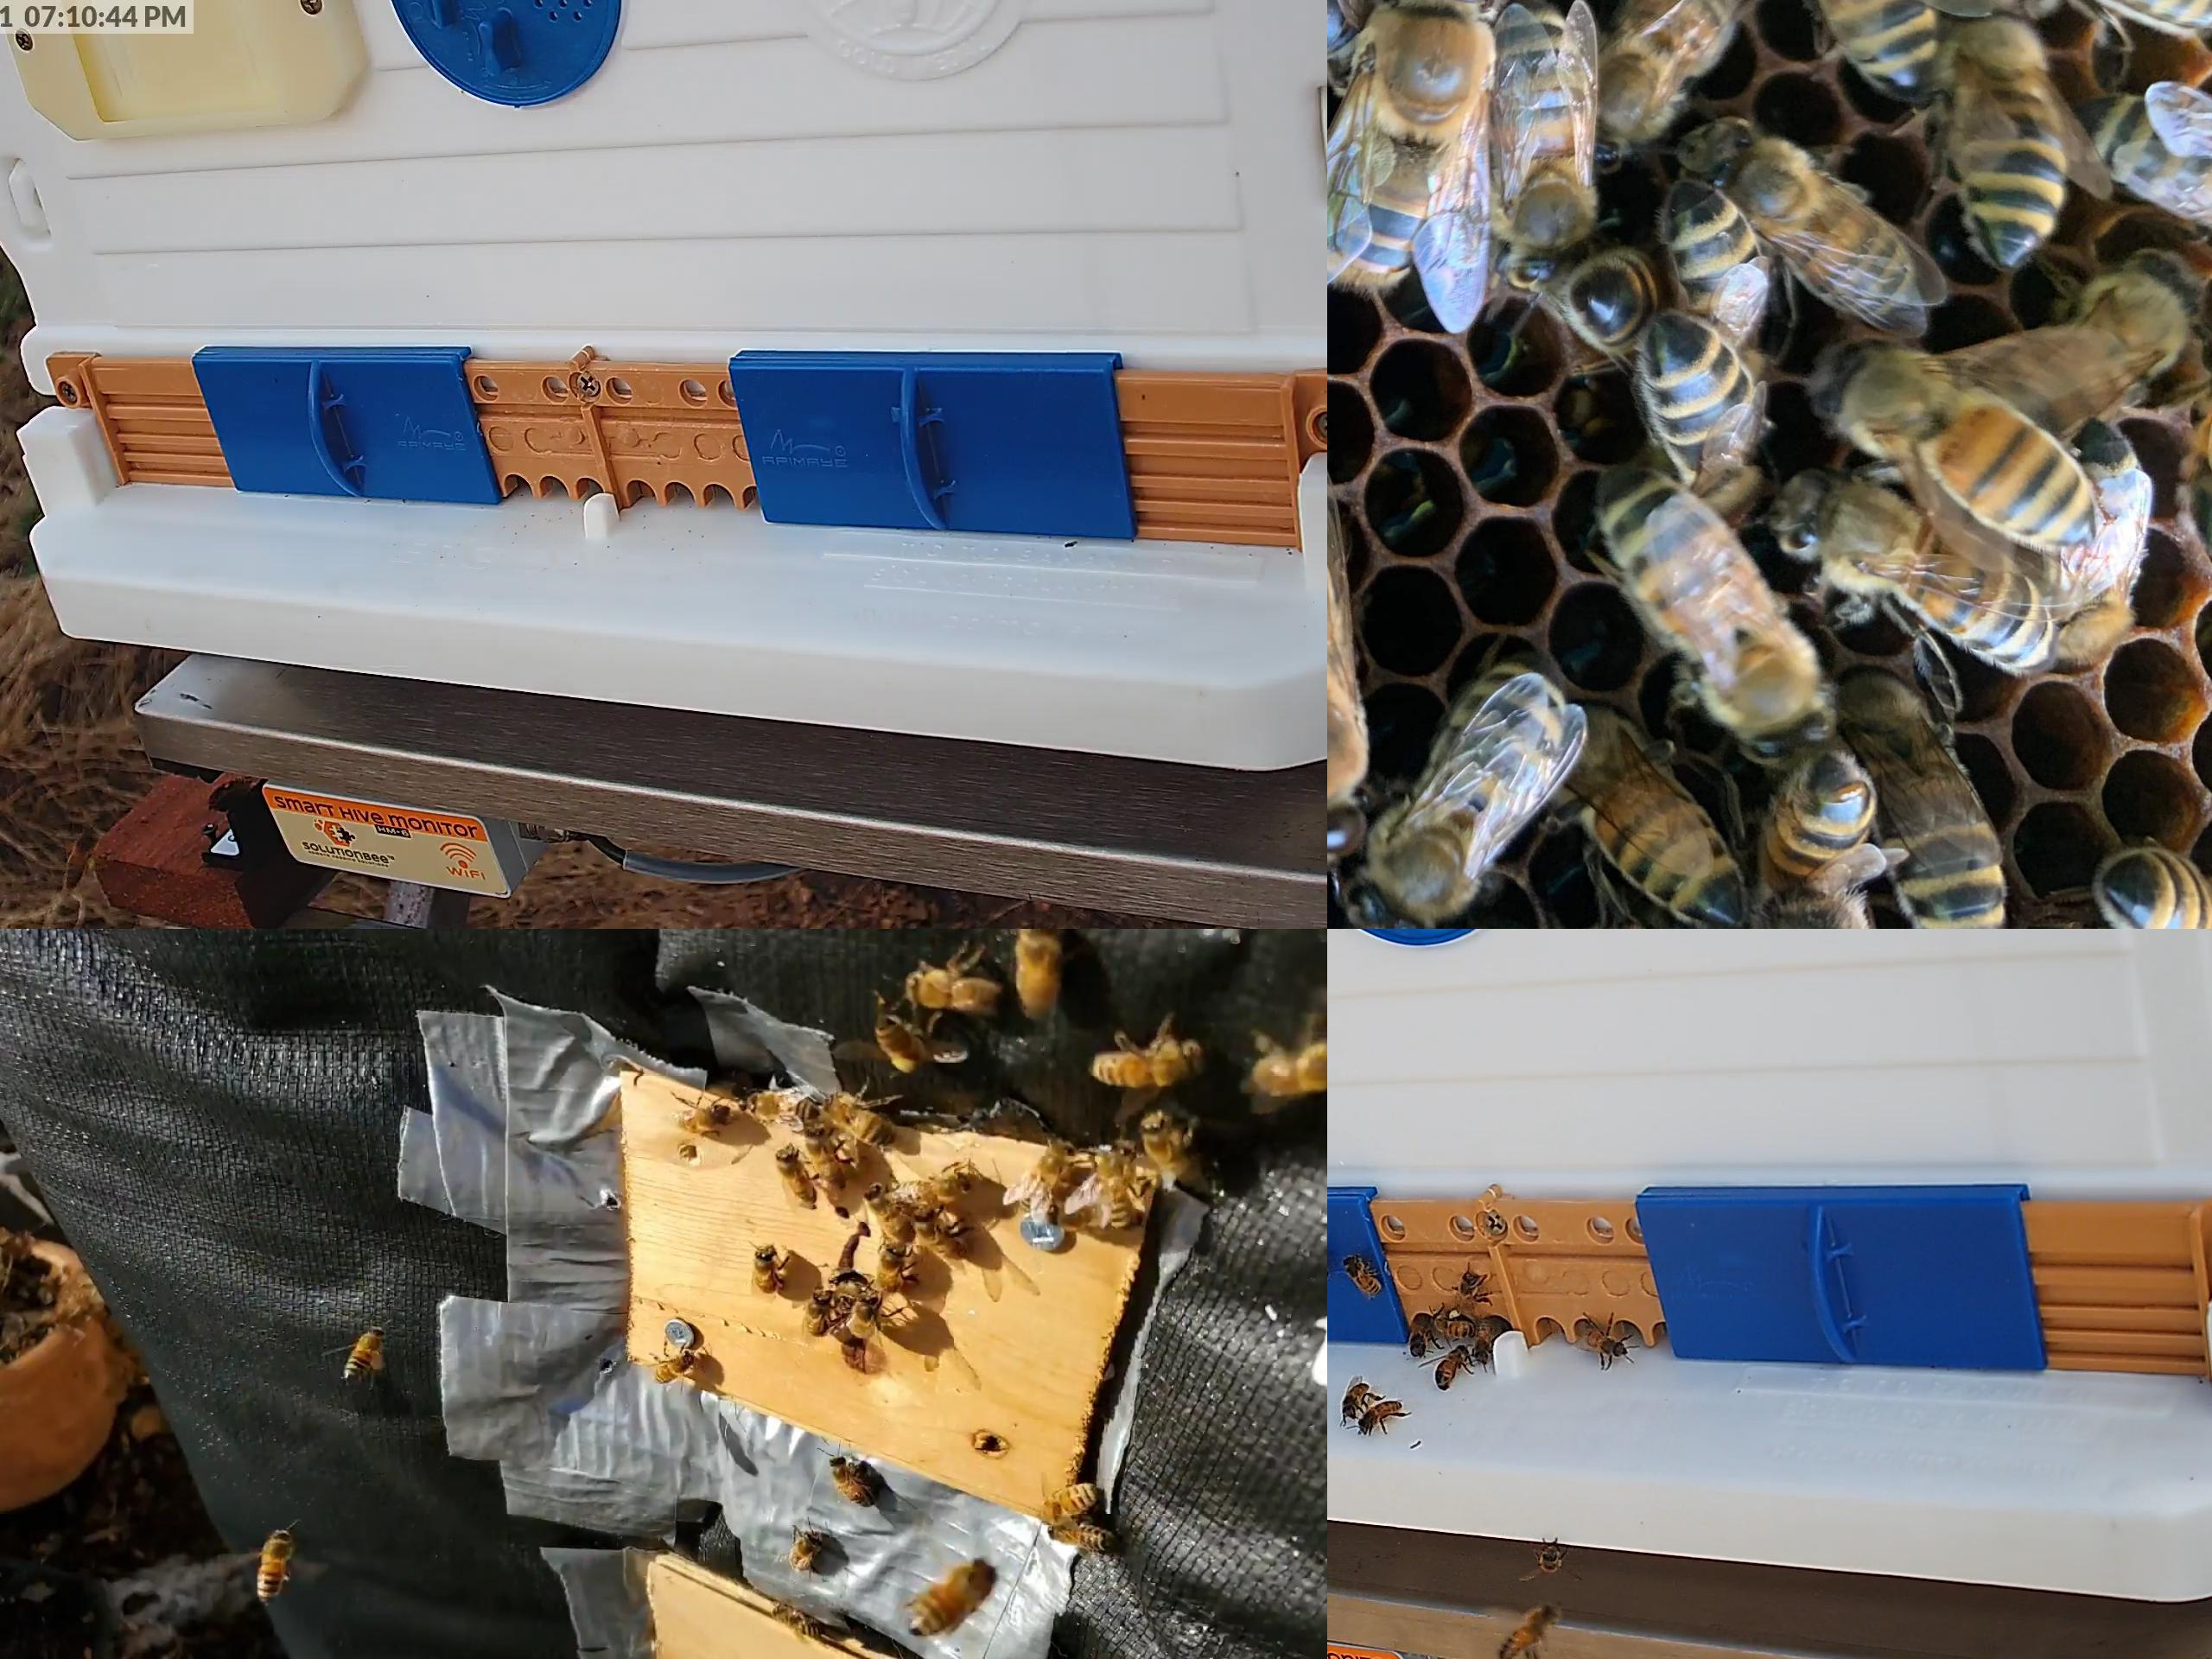bee: (1595, 465, 1831, 753), (1359, 653, 1564, 929), (1794, 467, 2057, 674), (1831, 347, 2094, 545), (1698, 122, 1926, 336), (1836, 673, 2005, 929), (1575, 711, 1743, 920), (1947, 5, 2064, 263), (1491, 0, 1585, 279), (2045, 260, 2189, 437), (1592, 0, 1737, 157), (1641, 322, 1766, 502), (2057, 422, 2149, 648), (2071, 96, 2212, 242), (1763, 758, 1878, 929), (1764, 0, 1937, 96), (1663, 185, 1768, 336), (1568, 246, 1674, 352), (2097, 849, 2212, 929), (1963, 0, 2212, 33), (911, 1560, 996, 1635), (904, 964, 1000, 1011), (1090, 1044, 1200, 1082), (1254, 1046, 1327, 1103), (2195, 315, 2212, 556), (826, 1089, 900, 1143), (1019, 1141, 1071, 1213), (874, 1012, 934, 1075), (1017, 929, 1054, 1023), (1498, 1601, 1557, 1659), (1139, 1112, 1193, 1173), (1423, 0, 1512, 37), (254, 1534, 298, 1600), (1099, 1140, 1130, 1230), (1036, 1483, 1099, 1527), (805, 1124, 846, 1188), (866, 1182, 911, 1239), (895, 1169, 970, 1202), (914, 1208, 965, 1256), (775, 1145, 815, 1206), (770, 1603, 831, 1642), (840, 1293, 880, 1345), (1045, 1521, 1111, 1553), (834, 1459, 876, 1507), (655, 1349, 702, 1387), (674, 1098, 725, 1131), (751, 1096, 817, 1121), (1435, 1345, 1470, 1391), (876, 1243, 909, 1290), (803, 1291, 833, 1338), (1359, 1401, 1402, 1432), (752, 1248, 782, 1291), (1346, 1256, 1383, 1291), (787, 1532, 822, 1567), (1585, 1326, 1623, 1354), (1343, 1380, 1371, 1417), (1536, 1537, 1561, 1570), (1460, 1274, 1480, 1309), (1411, 1319, 1430, 1356), (1475, 1317, 1491, 1361)
drone: (1327, 0, 1489, 277), (1327, 484, 1374, 857)
pollenbee: (345, 1324, 390, 1380), (1433, 1312, 1474, 1337)
